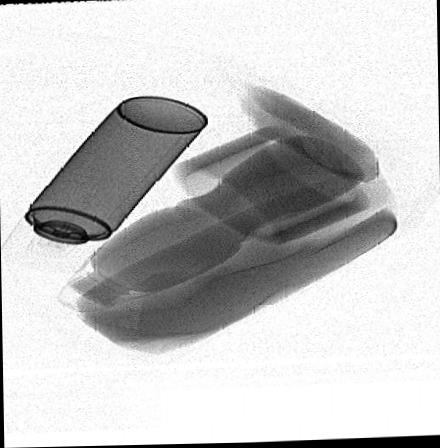Sprayer: (2, 96, 207, 275)
